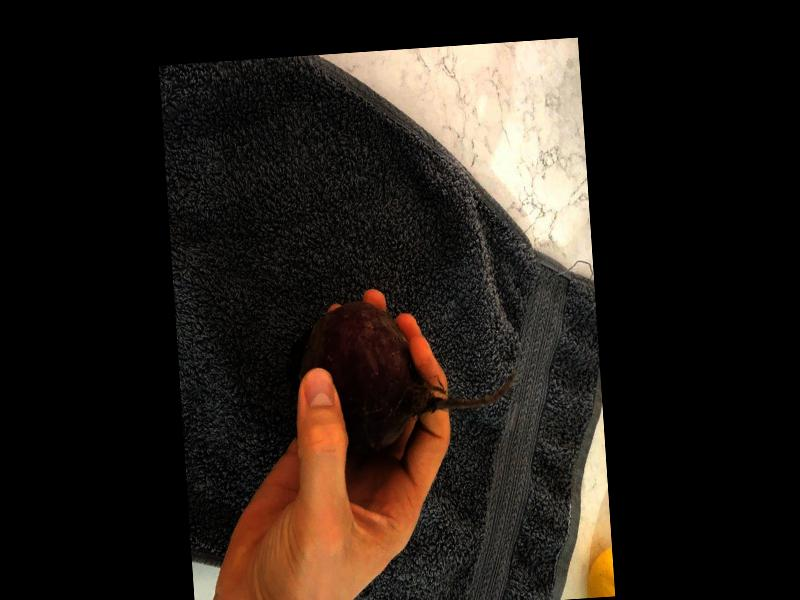Beet: (282, 291, 521, 459)
